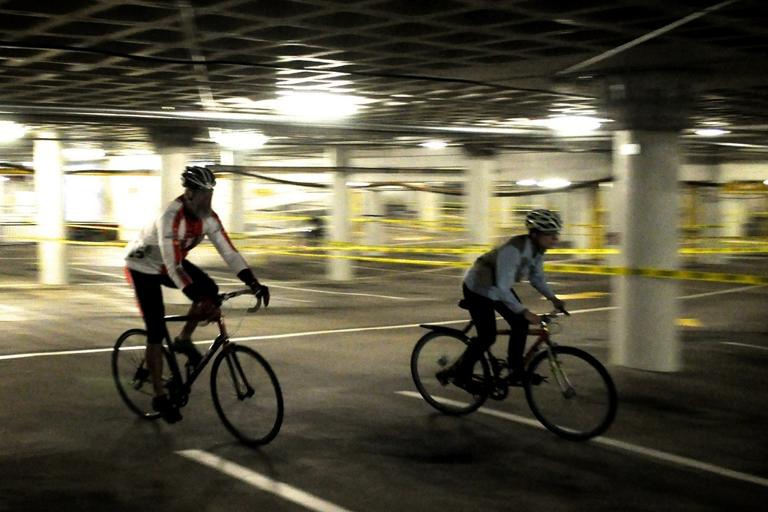non-vehicle: (408, 297, 620, 441), (110, 289, 283, 445)
